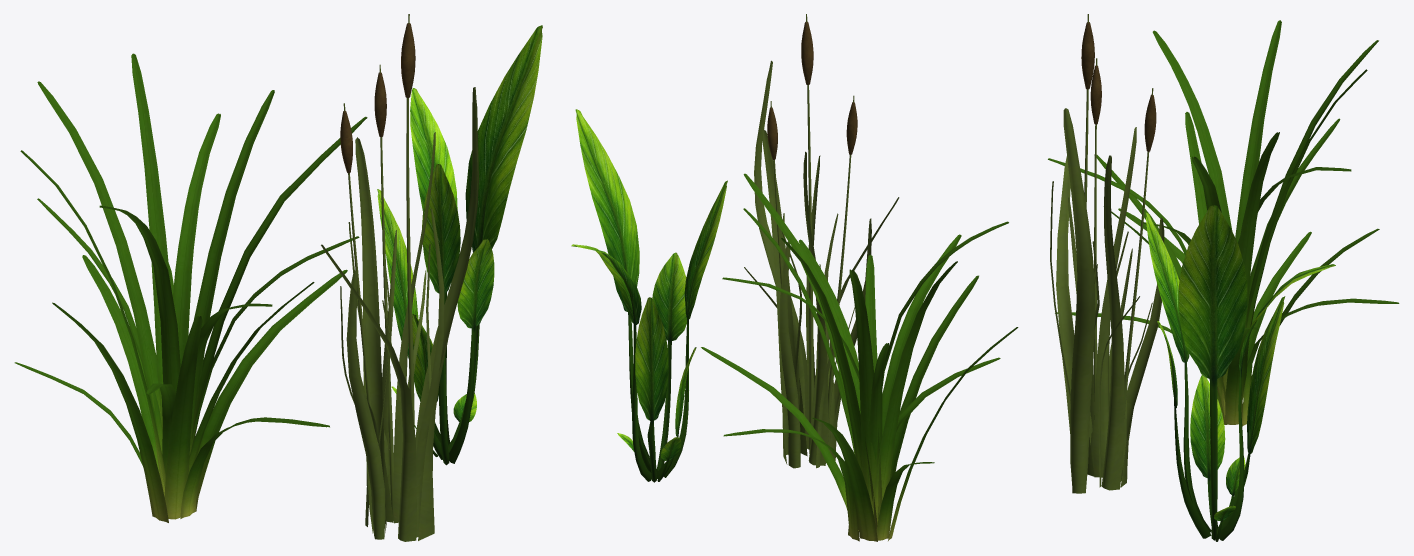
Rendered from underwater_plant_pack.glb.
3 views of the same model, side by side, from view 1: azimuth 30°, elevation 25°; view 2: azimuth 150°, elevation 25°; view 3: azimuth 270°, elevation 25° (orthographic). The views are drawn at different scales.
Visible parts, largest first — view 1: plant_1, plant_3, plant_2; view 2: plant_1, plant_2, plant_3; view 3: plant_3, plant_2, plant_1.
Part boxes in pixels (x1,y1,x2,y2): plant_1: [14, 53, 367, 522]; plant_3: [321, 14, 478, 541]; plant_2: [377, 25, 542, 465]; plant_1: [701, 173, 1018, 541]; plant_2: [571, 109, 727, 482]; plant_3: [744, 14, 899, 468]; plant_3: [1050, 14, 1164, 493]; plant_2: [1145, 205, 1335, 541]; plant_1: [1048, 20, 1399, 426].
Bounding box in the file's own units: 17.43 × 17.26 × 11.53.
Materials: 4 (4 with a texture image).
